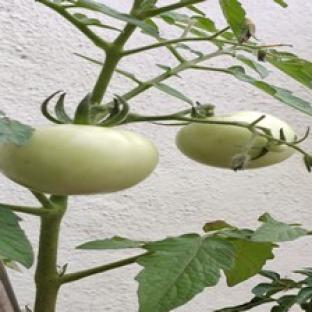Tomato: (0, 124, 158, 194), (176, 123, 293, 168)
